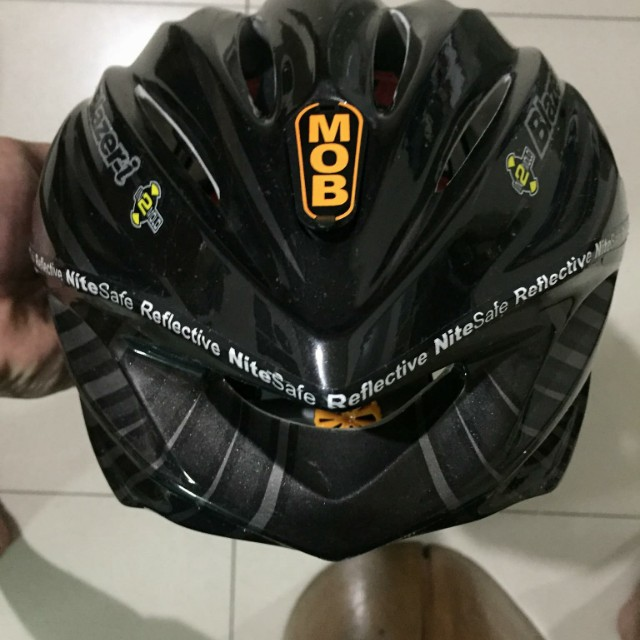with_helmet: (30, 1, 623, 563)
